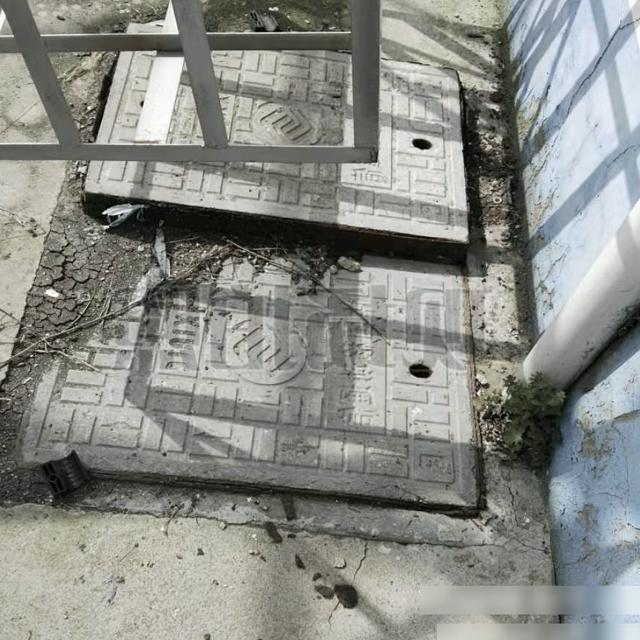uncovered: (0, 28, 490, 536)
